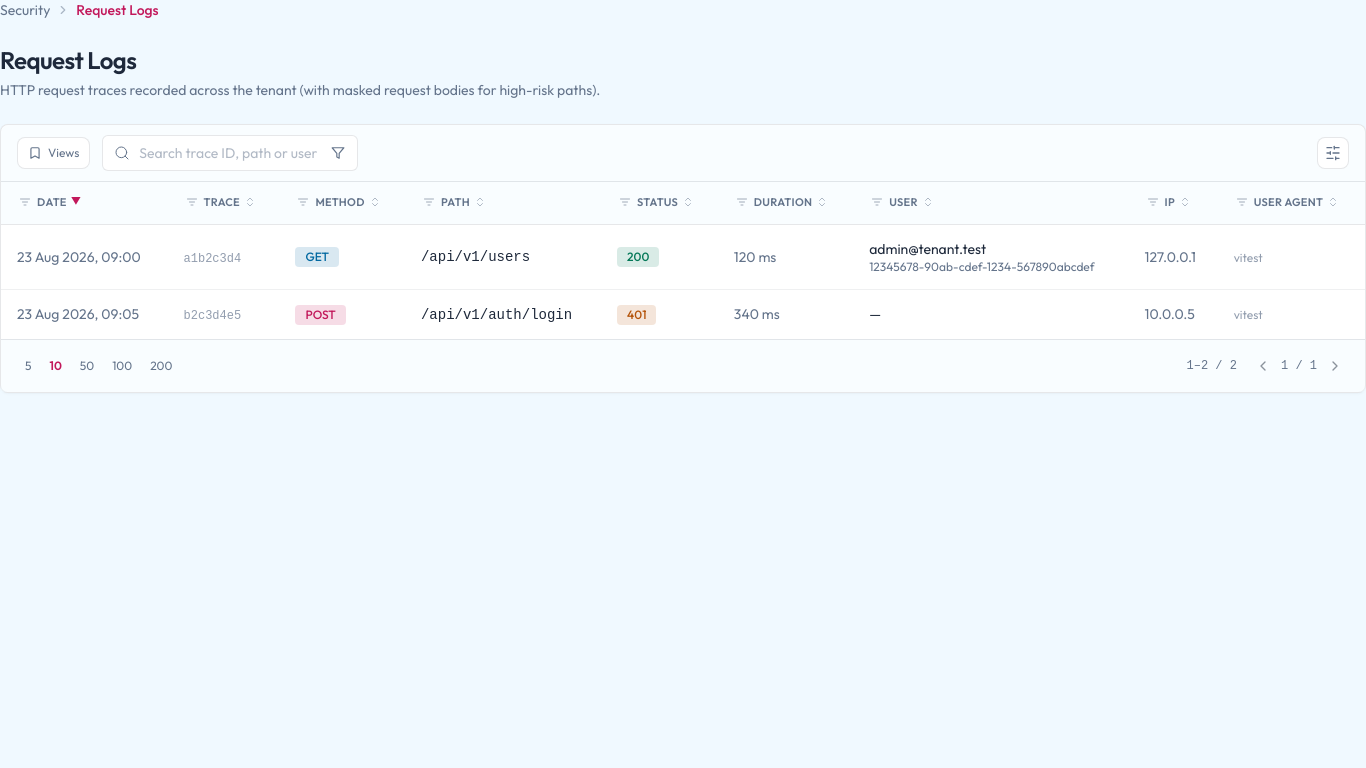
it: RequestLogsPage › closing the drawer returns focus to the table and the list stays intact
The width and height of the screenshot is (1366, 768).
Expected: the text "/api/v1/users" is shown, x1=421 y1=249 x2=530 y2=265
Click the text "admin@tenant.test": click(928, 249) x1=869 y1=240 x2=986 y2=258
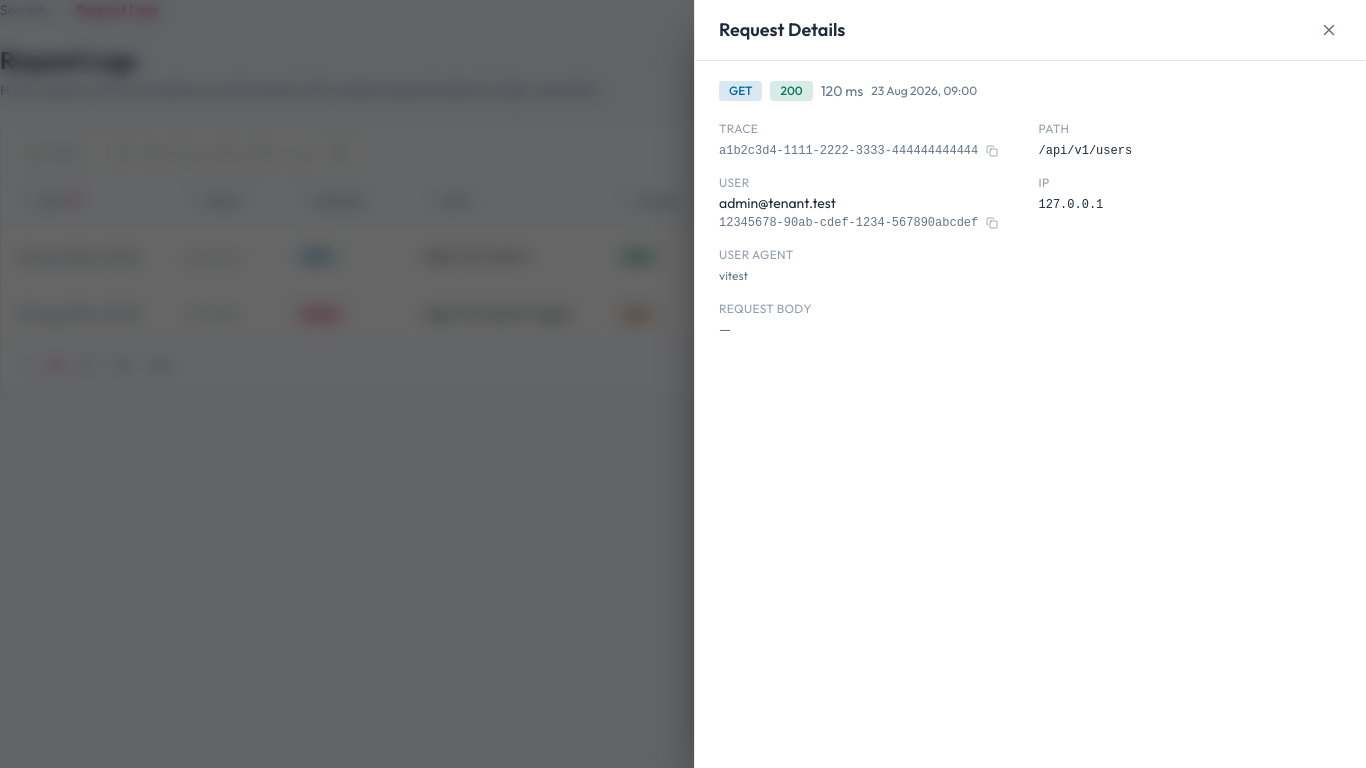
Now the dialog "Request Details" is shown, box x1=694 y1=0 x2=1365 y2=767
Press Escape
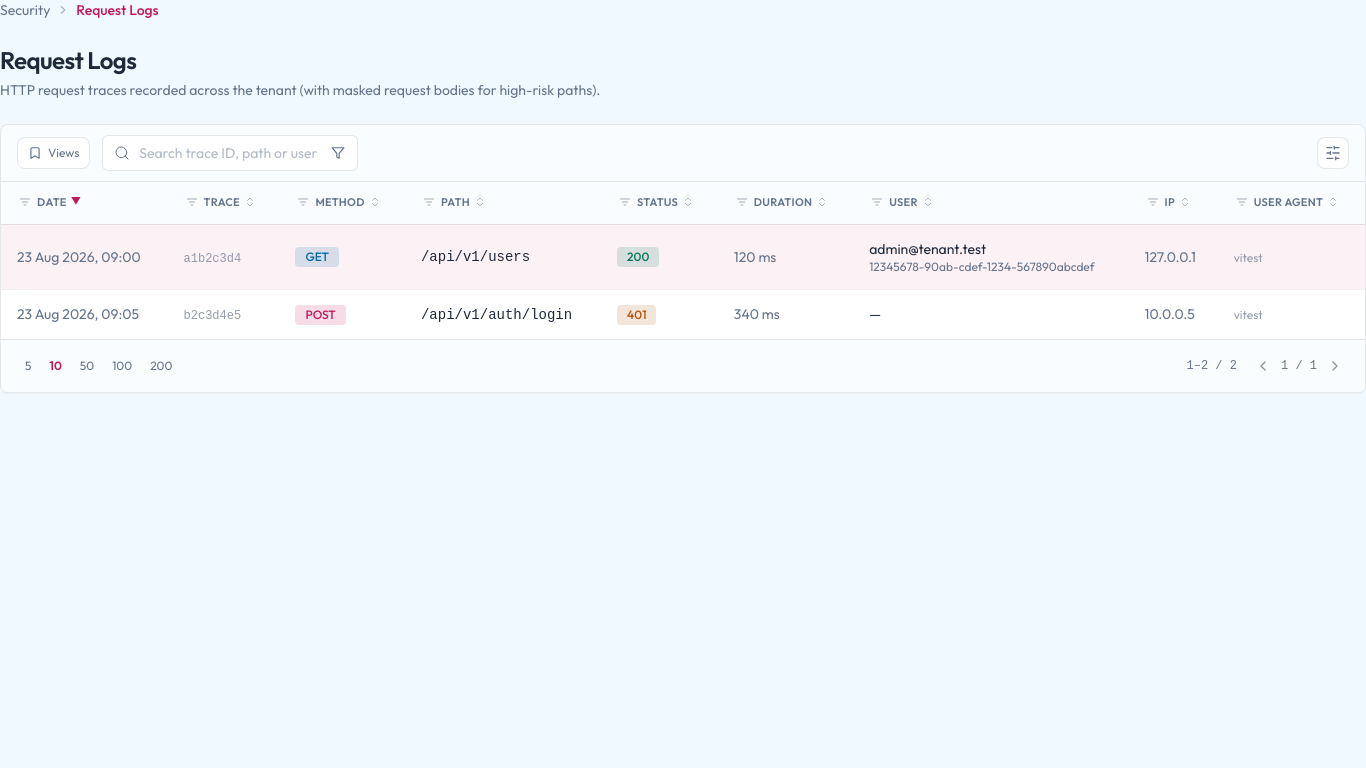
Expected: the text "/api/v1/users" is shown, x1=421 y1=249 x2=530 y2=265
Now the dialog is gone
